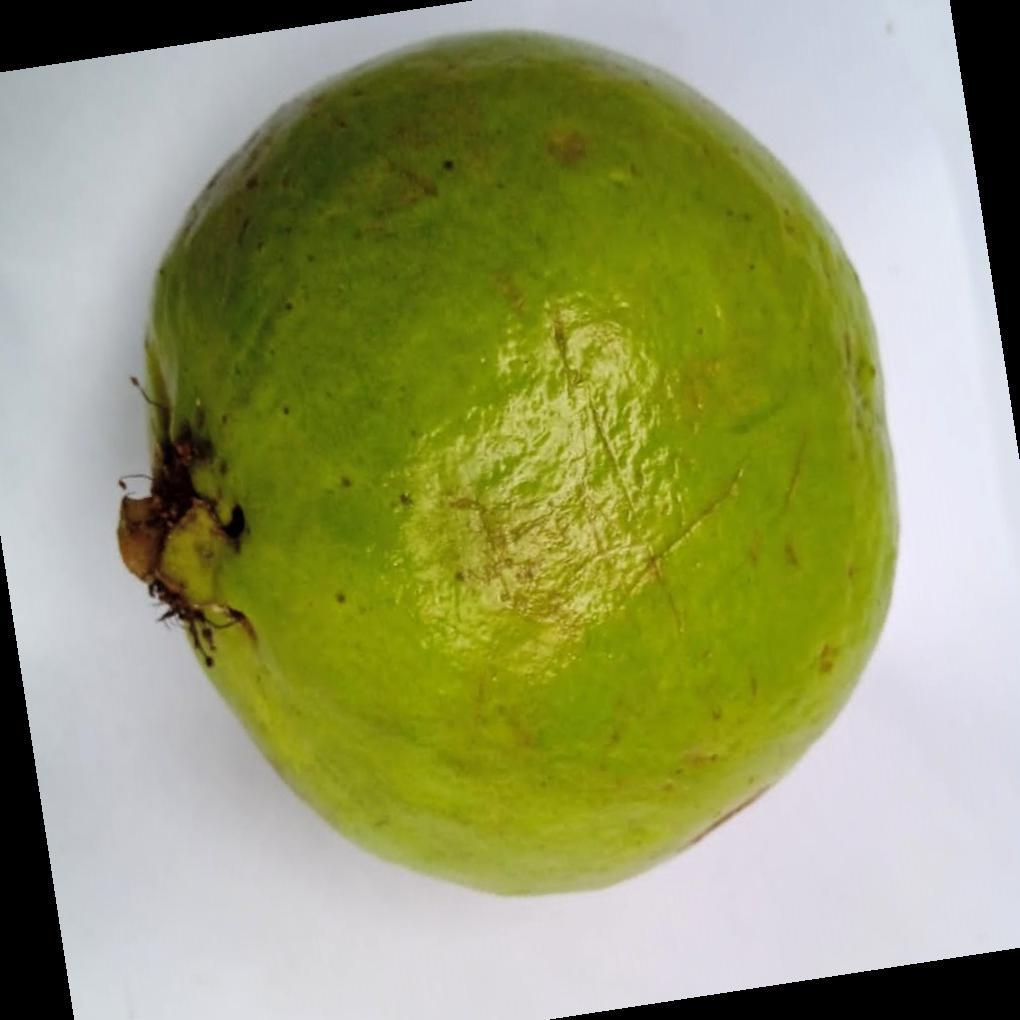FreshGuava: (115, 30, 903, 903)
